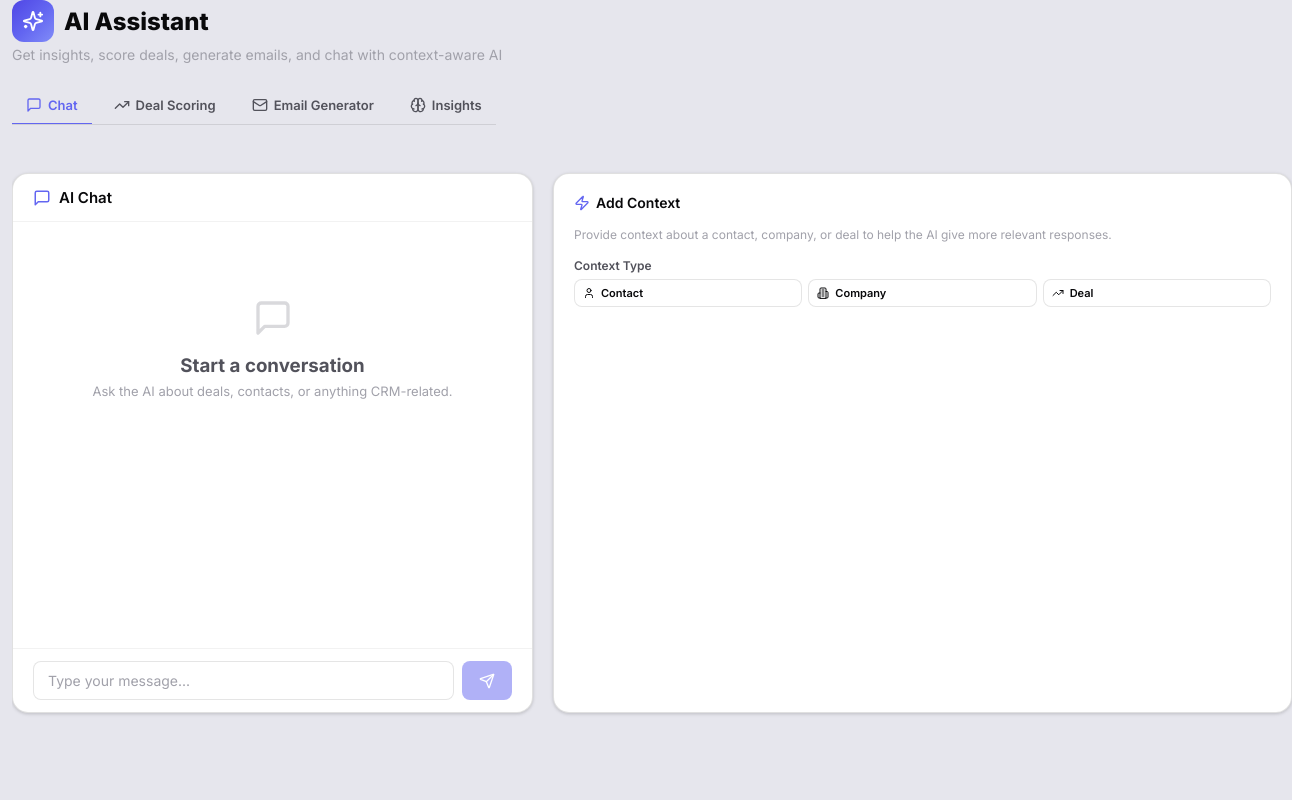
AIAssistant › switches to insights tab
The width and height of the screenshot is (1292, 800).
Step 1. Click the button "Insights" → (446, 106), box [396,87,496,125]
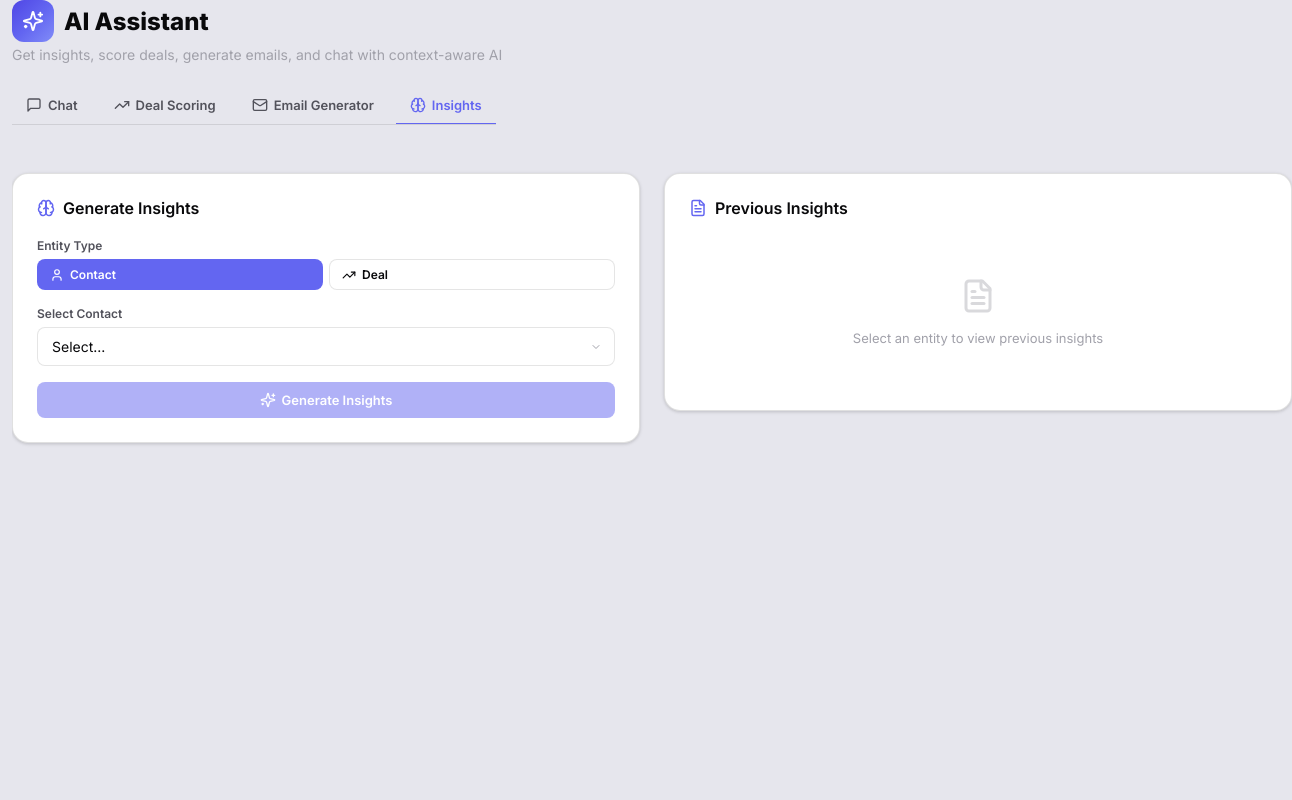
Expected: the button "Generate Insights" is shown, [37,382,615,418]
